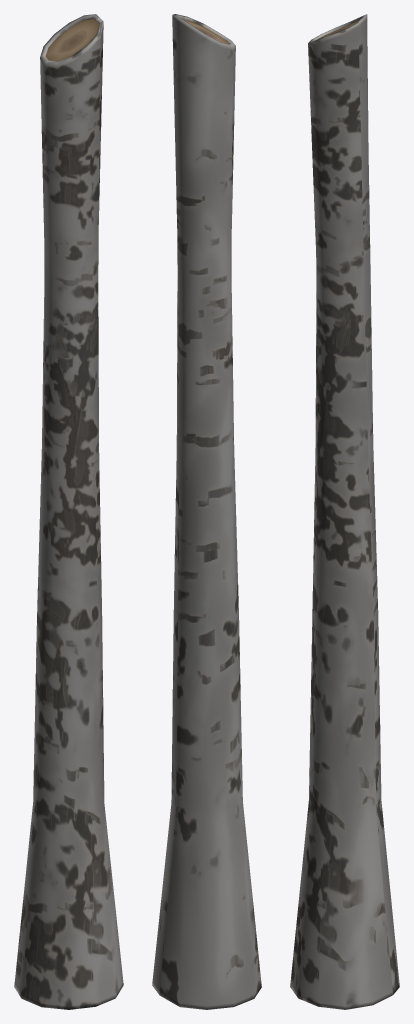
File: tree04_log.fbx
3 renders of one model, left to right at view 1: azimuth 30°, elevation 25°; view 2: azimuth 210°, elevation 25°; view 3: azimuth 330°, elevation 25°, orthographic.
Parts seen in each view (by area): view 1: Cylinder.015; view 2: Cylinder.015; view 3: Cylinder.015.
Boxes of the visible parts, x1,y1,x2,y2 form: Cylinder.015: (14,14,123,1009); Cylinder.015: (152,14,261,1009); Cylinder.015: (290,14,399,1009).
Bounding box in the file's own units: 26.75 × 262 × 26.27.
